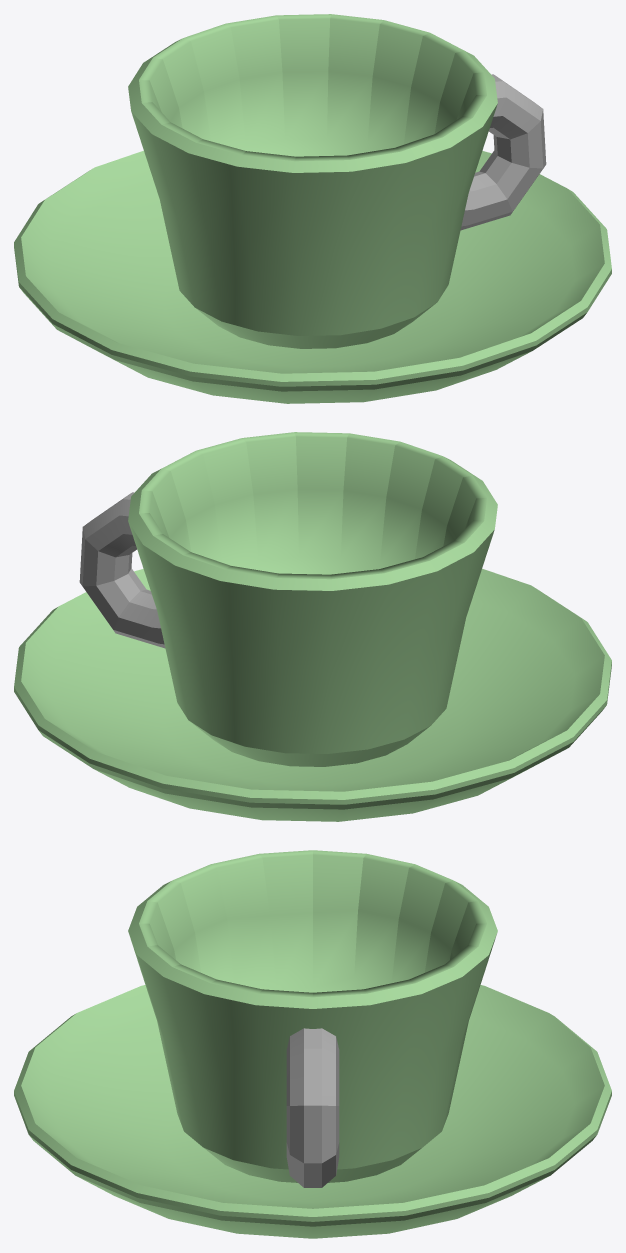
The model's file is Saucer01.fbx.
3 views of the same model, one above another, from view 1: azimuth 30°, elevation 25°; view 2: azimuth 150°, elevation 25°; view 3: azimuth 270°, elevation 25° (orthographic).
Parts seen in each view (by area): view 1: Saucer01_Modelling_v001:Saucer_Cup, Saucer01_Modelling_v001:Saucer_Saucer, Saucer01_Modelling_v001:Saucer_Cup1; view 2: Saucer01_Modelling_v001:Saucer_Cup, Saucer01_Modelling_v001:Saucer_Saucer, Saucer01_Modelling_v001:Saucer_Cup1; view 3: Saucer01_Modelling_v001:Saucer_Cup, Saucer01_Modelling_v001:Saucer_Saucer, Saucer01_Modelling_v001:Saucer_Cup1.
Boxes of the visible parts, bbox=[...] form: Saucer01_Modelling_v001:Saucer_Cup: bbox=[128, 14, 497, 348]; Saucer01_Modelling_v001:Saucer_Saucer: bbox=[14, 150, 611, 403]; Saucer01_Modelling_v001:Saucer_Cup1: bbox=[460, 74, 546, 230]; Saucer01_Modelling_v001:Saucer_Cup: bbox=[128, 432, 497, 766]; Saucer01_Modelling_v001:Saucer_Saucer: bbox=[14, 568, 611, 821]; Saucer01_Modelling_v001:Saucer_Cup1: bbox=[79, 492, 165, 648]; Saucer01_Modelling_v001:Saucer_Cup: bbox=[128, 850, 497, 1182]; Saucer01_Modelling_v001:Saucer_Saucer: bbox=[14, 985, 611, 1238]; Saucer01_Modelling_v001:Saucer_Cup1: bbox=[286, 1028, 339, 1187].
Size of the model in its own units: 15.88 by 7.29 by 15.88.
Materials: 2 (1 with a texture image).
